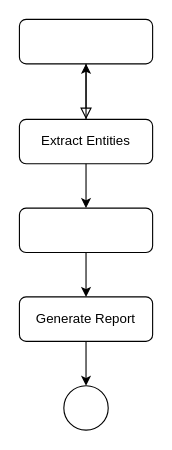
Some shapes in this 172 by 450 pixel diagram are drawn without their labels. Here are the shapes that lost their labels. From the top down, the centre of each, then its label:
At (85,41): "Start Analysis".
At (85,230): "Analyze Risks and Complainces".
